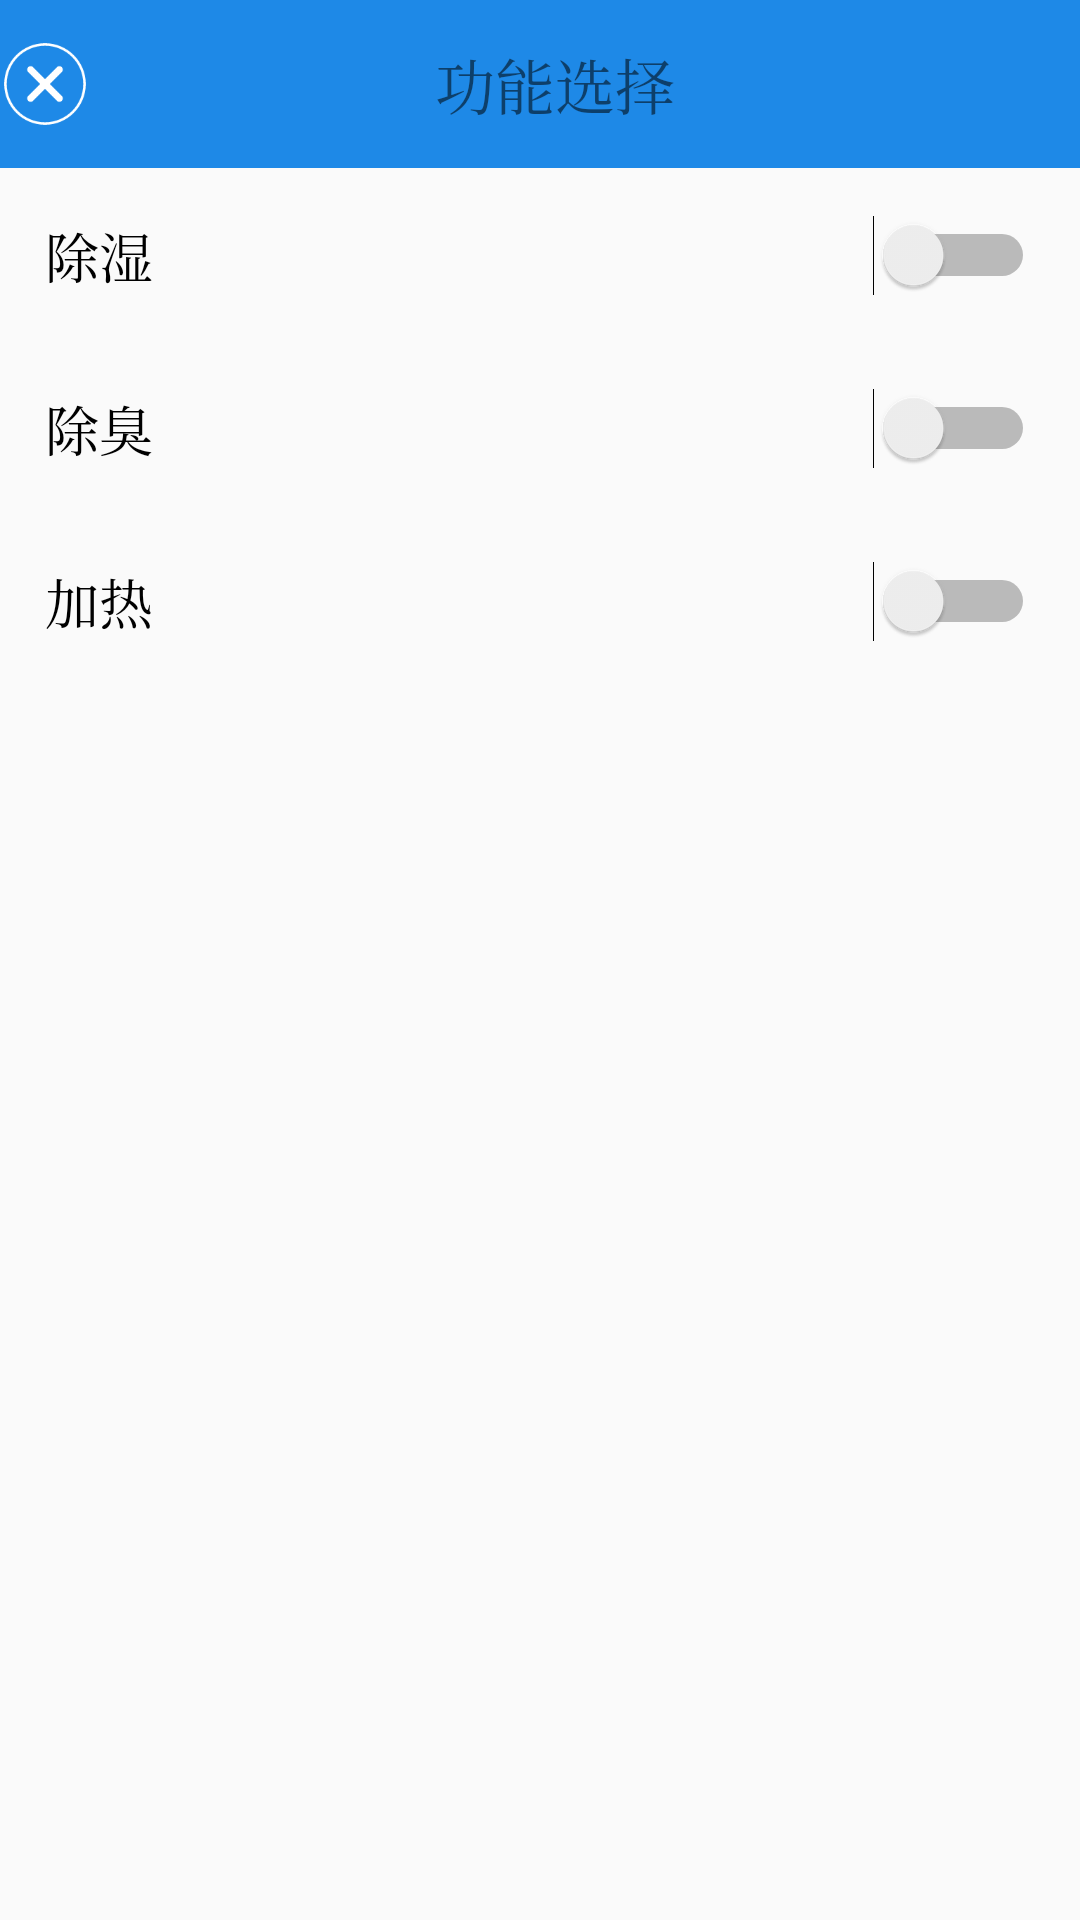

Icons on this 1080px x 1920px Android screen, each with its box as bbox=(x1, y1, x2, y2):
close: bbox=(4, 43, 86, 125)
